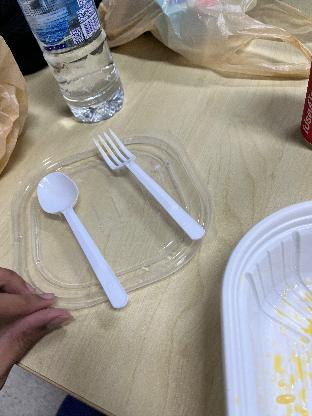Others: (30, 166, 136, 312), (89, 129, 211, 245)
Plastic Bottle: (18, 0, 126, 124)
